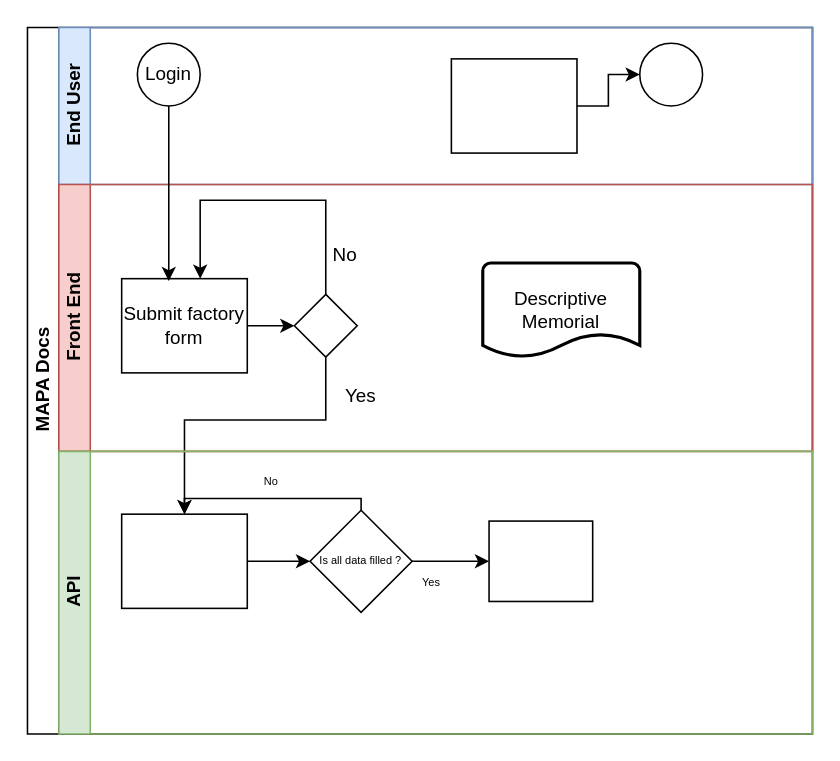
The diagram is 840 pixels wide and 761 high, and some of its shapes have lost their labels. The centre of each missing label's shape, as x and y in pixels:
Data Base: pixel 183 560
Download document: pixel 513 105
Form Complete?: pixel 325 325
Generator API: pixel 540 560
